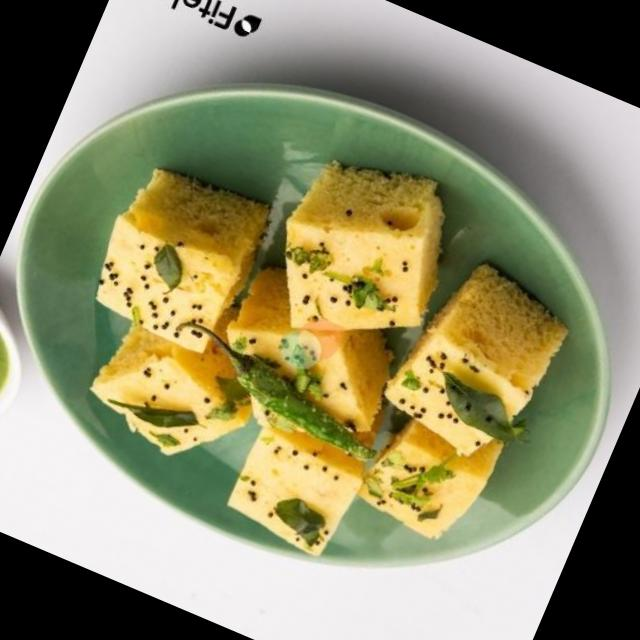dhokla: (8, 68, 604, 614)
